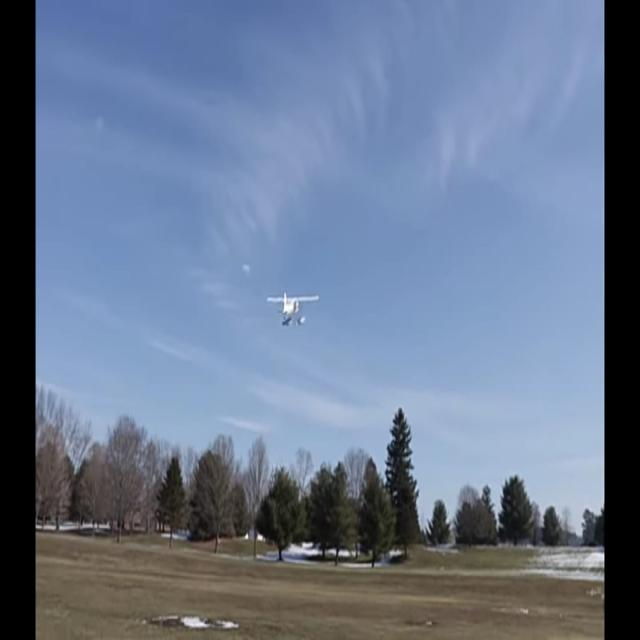iha: (266, 290, 320, 329)
